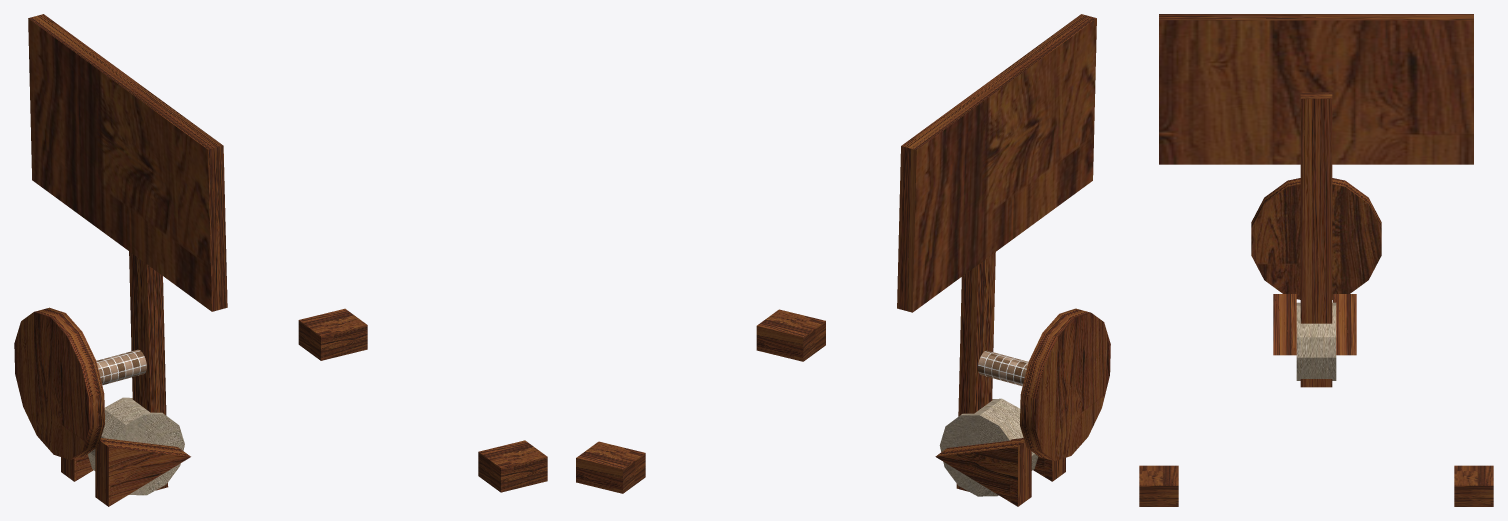
Rendered from Plank.fbx.
3 views of the same model, side by side, from view 1: azimuth 30°, elevation 25°; view 2: azimuth 150°, elevation 25°; view 3: azimuth 270°, elevation 25° (orthographic). The views are drawn at different scales.
Visible parts, largest first — view 1: polySurface20, polySurface13; view 2: polySurface20, polySurface13; view 3: polySurface20, polySurface13.
Part boxes in pixels (x1,y1,x2,y2): polySurface20: (14, 14, 227, 495); polySurface13: (61, 308, 547, 506); polySurface20: (897, 14, 1110, 496); polySurface13: (576, 309, 1065, 506); polySurface20: (1159, 14, 1473, 387); polySurface13: (1139, 294, 1493, 506).
Bounding box in the file's own units: 254 × 250 × 225.
